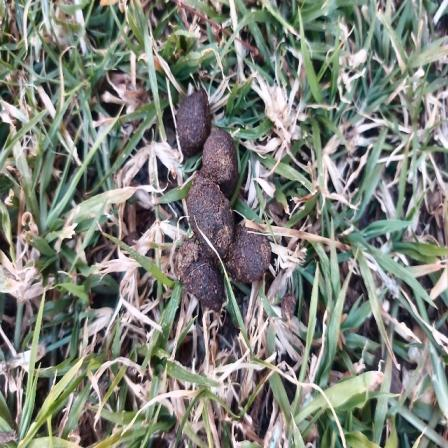dog-poop: (171, 88, 272, 312)
